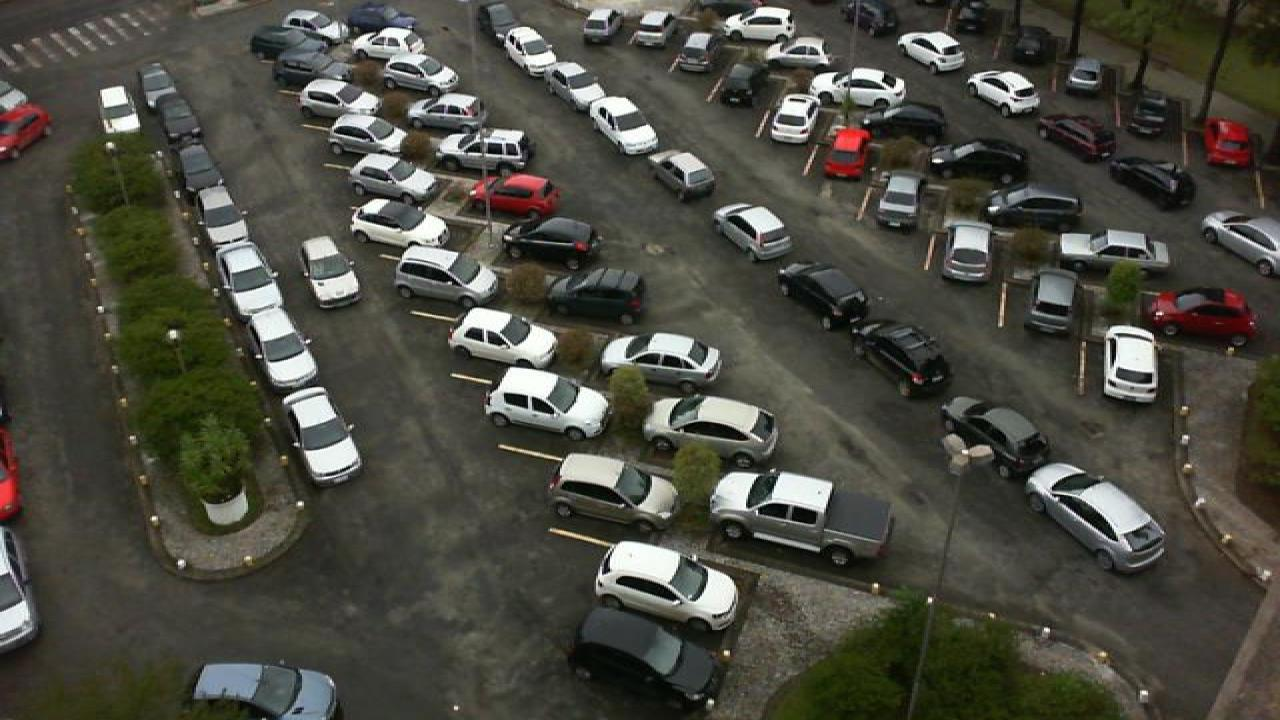Car: (710, 468, 898, 567), (564, 603, 728, 710), (1024, 461, 1168, 575), (590, 539, 746, 637), (548, 450, 684, 534), (644, 392, 784, 469), (936, 393, 1050, 481), (482, 367, 614, 443), (184, 661, 342, 720), (850, 315, 956, 399), (278, 386, 364, 485), (598, 328, 724, 395), (444, 306, 560, 370), (776, 260, 876, 334), (390, 243, 502, 308), (1140, 285, 1260, 344), (544, 266, 646, 328), (500, 215, 604, 272), (1056, 227, 1172, 278), (246, 308, 318, 390), (1200, 208, 1280, 280), (348, 197, 452, 252), (216, 237, 284, 315), (924, 136, 1032, 185), (1108, 153, 1200, 210), (710, 202, 794, 264), (984, 183, 1086, 234), (0, 525, 40, 655), (346, 152, 438, 206), (810, 66, 908, 115), (1100, 324, 1160, 404), (300, 234, 364, 308), (468, 171, 560, 222), (586, 93, 660, 156), (1036, 109, 1116, 164), (436, 126, 530, 170), (324, 112, 408, 160), (1024, 268, 1082, 335), (644, 150, 718, 202), (938, 220, 998, 284), (854, 102, 948, 142), (966, 69, 1040, 117), (298, 76, 374, 122), (404, 91, 486, 132), (274, 48, 348, 92), (872, 172, 928, 230), (380, 53, 458, 94), (722, 4, 800, 44), (546, 64, 606, 116), (896, 30, 968, 72), (822, 124, 874, 182), (0, 105, 52, 163), (768, 91, 822, 145), (1124, 83, 1176, 136), (1204, 116, 1254, 170), (96, 84, 146, 138), (348, 27, 428, 60), (502, 25, 556, 73), (248, 25, 320, 58), (344, 0, 416, 33), (762, 36, 832, 69), (280, 9, 350, 42), (172, 129, 216, 178), (156, 94, 202, 140), (202, 199, 248, 245), (670, 30, 720, 72), (838, 0, 896, 36), (722, 64, 768, 109), (132, 60, 178, 104), (626, 7, 676, 47), (1004, 24, 1054, 64), (474, 0, 520, 42), (1062, 55, 1106, 98), (188, 167, 232, 208), (942, 0, 990, 34), (580, 7, 622, 44)
